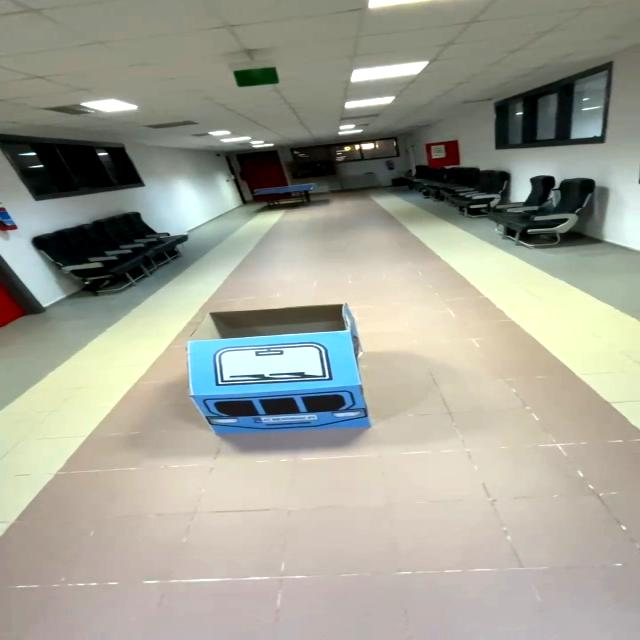blue_car: (166, 287, 393, 453)
